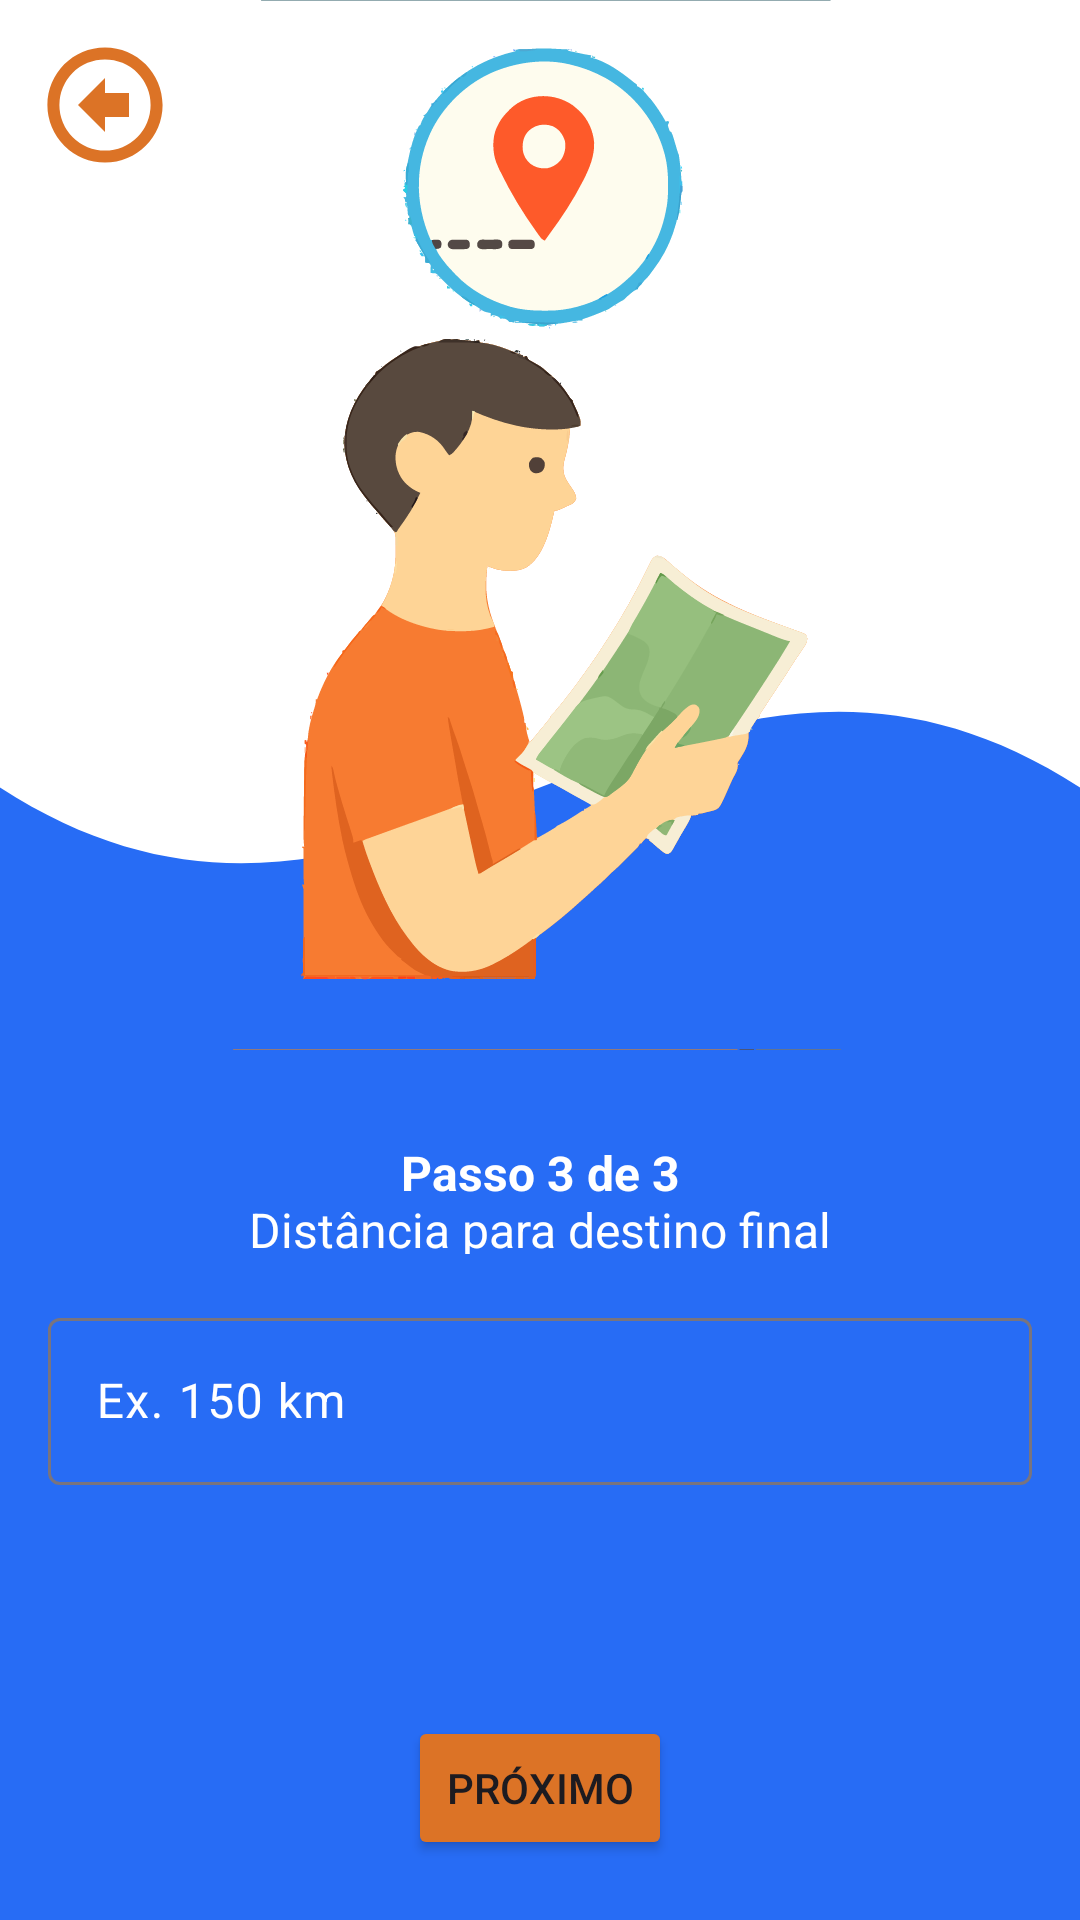

Icons on this 1080×1920 Android screen, each with the point to tap as (x,y):
arrow: (105,105)
